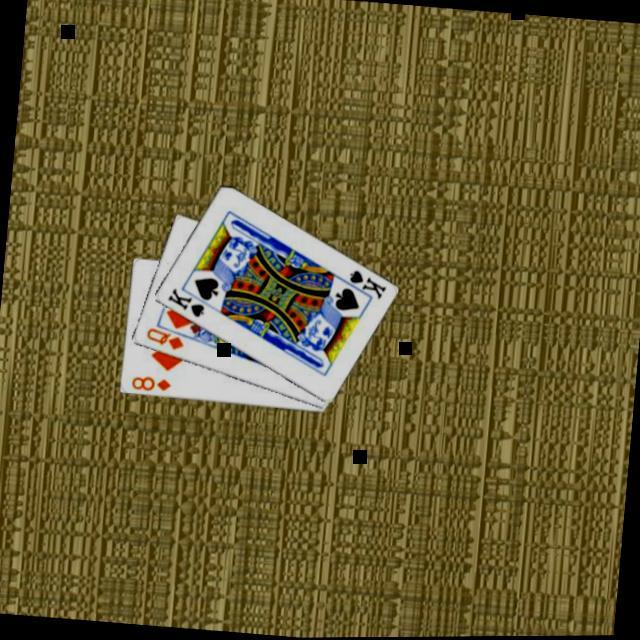8D: (126, 372, 172, 397)
KS: (336, 267, 388, 304), (161, 285, 207, 322)
QD: (140, 324, 186, 354)
